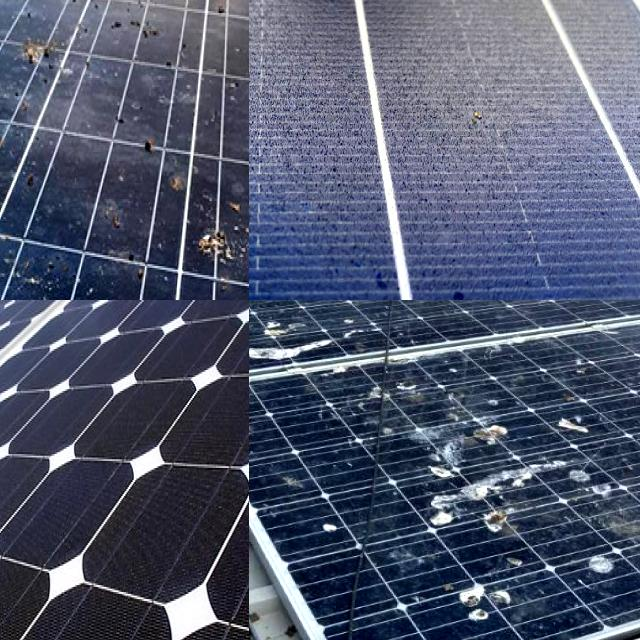bird: (426, 448, 564, 540), (436, 574, 524, 622), (7, 247, 79, 300), (185, 218, 249, 275), (570, 540, 636, 582), (16, 27, 63, 85), (100, 15, 176, 50), (0, 200, 23, 298), (164, 152, 202, 206), (536, 404, 608, 430), (0, 124, 29, 183), (0, 73, 27, 128), (470, 412, 506, 452), (45, 0, 101, 23), (134, 123, 161, 163), (158, 0, 206, 15), (0, 209, 13, 263), (0, 15, 20, 49), (0, 0, 22, 26), (0, 0, 28, 18), (148, 0, 193, 9), (0, 0, 14, 20), (0, 67, 9, 96), (0, 0, 10, 21), (0, 0, 17, 9)
crack: (0, 300, 249, 640)
